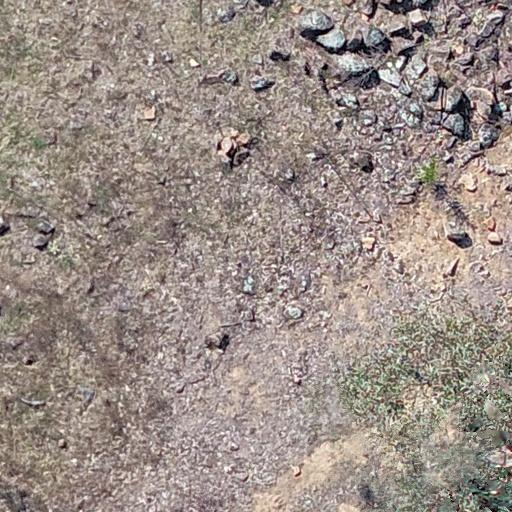stone: (314, 28, 350, 51), (435, 112, 467, 135), (474, 8, 502, 33), (326, 52, 364, 70), (300, 12, 333, 32), (414, 70, 436, 100), (437, 88, 464, 110), (471, 126, 495, 149), (206, 328, 232, 349), (380, 62, 406, 82), (352, 152, 376, 172), (369, 32, 390, 54), (388, 19, 418, 34), (472, 96, 497, 114), (402, 106, 421, 128), (436, 145, 458, 164), (440, 15, 470, 28), (38, 221, 62, 237), (196, 72, 220, 88), (222, 69, 244, 86), (484, 162, 510, 176), (419, 114, 437, 134), (460, 172, 479, 190), (474, 48, 494, 65), (134, 92, 158, 106), (212, 10, 236, 24), (272, 47, 294, 61), (428, 46, 448, 61), (0, 219, 12, 243), (356, 2, 376, 16), (500, 98, 512, 121), (252, 78, 276, 89), (449, 228, 466, 243), (334, 110, 346, 131), (239, 132, 255, 147), (292, 368, 306, 385), (238, 277, 254, 291), (341, 91, 358, 104), (415, 8, 428, 25), (484, 231, 504, 242), (289, 304, 301, 322), (31, 234, 46, 248), (287, 168, 301, 183), (503, 36, 512, 59), (79, 386, 91, 403), (361, 110, 378, 122), (16, 351, 34, 362), (362, 238, 374, 253), (183, 56, 200, 66), (302, 148, 314, 162), (432, 60, 444, 74), (160, 50, 172, 63), (294, 468, 307, 480), (145, 108, 156, 122), (252, 56, 269, 65), (231, 442, 241, 456), (484, 218, 495, 230), (239, 468, 248, 482), (60, 433, 67, 450), (148, 50, 154, 63), (225, 132, 230, 147), (13, 337, 23, 343)
